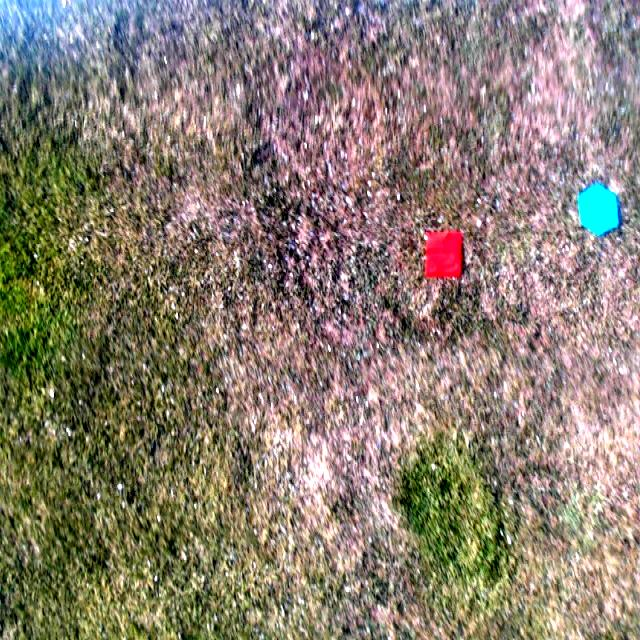blue_hexagon: (576, 182, 622, 237)
red_square: (424, 230, 462, 280)
